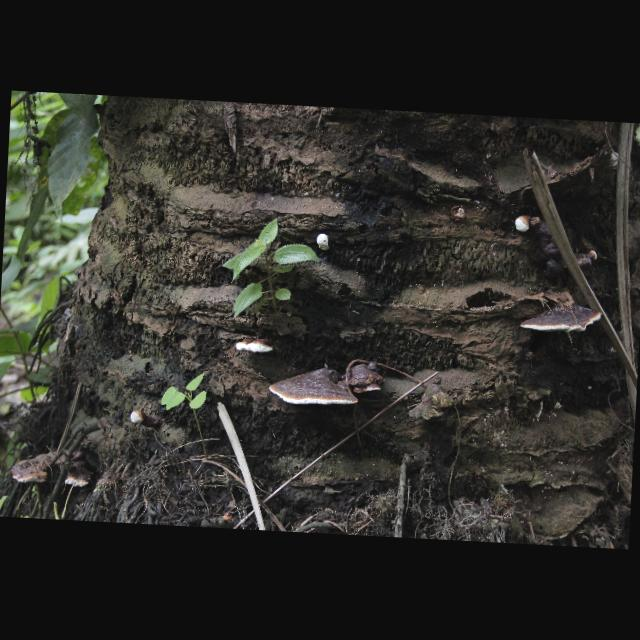ganoderma: (268, 366, 362, 410), (531, 215, 594, 277), (519, 300, 605, 338), (11, 450, 61, 487), (346, 361, 389, 396), (65, 463, 99, 491), (235, 336, 276, 356)
primordium: (514, 215, 533, 235), (317, 234, 334, 253), (130, 411, 149, 426), (609, 151, 623, 171), (590, 250, 600, 263)
